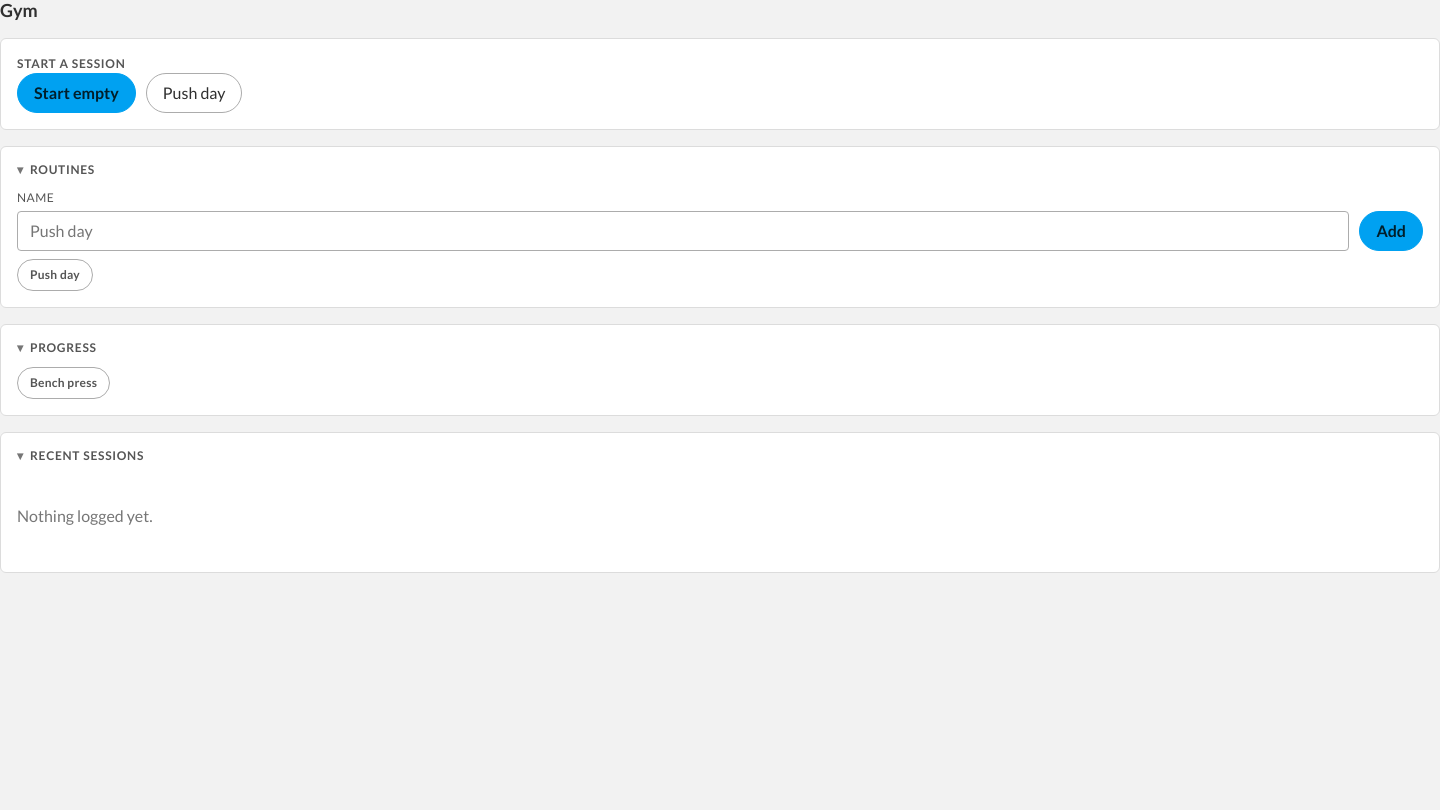
Test: GymPage › starting from a routine creates a session with no sets in it
Click the button with aria-label "Start Push day". click: [194, 93]
box: [146, 73, 242, 113]
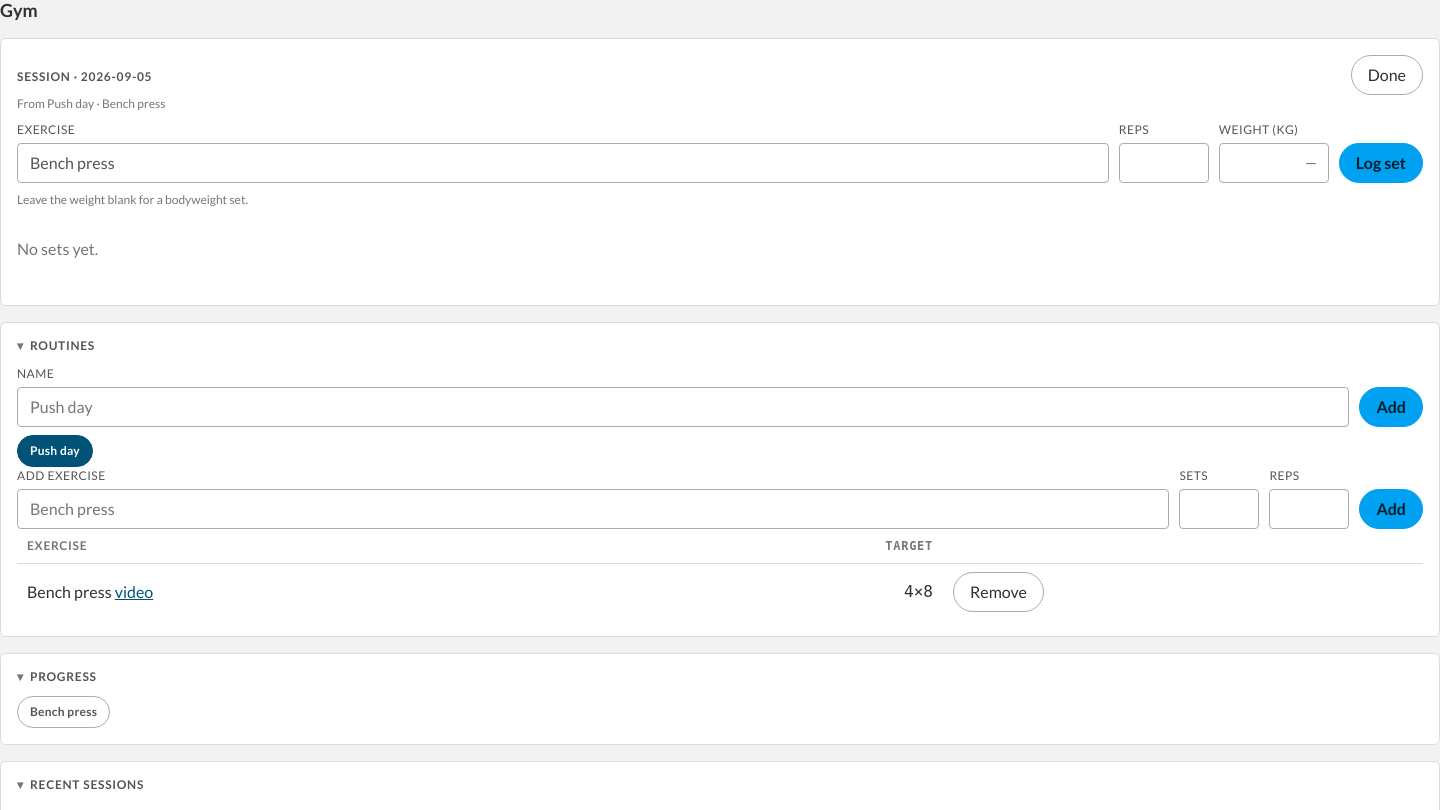
Expected: the text "No sets yet." is shown, [17, 239, 98, 258]
Expected: the field labelled "Exercise" holds "Bench press", [17, 143, 1109, 183]
